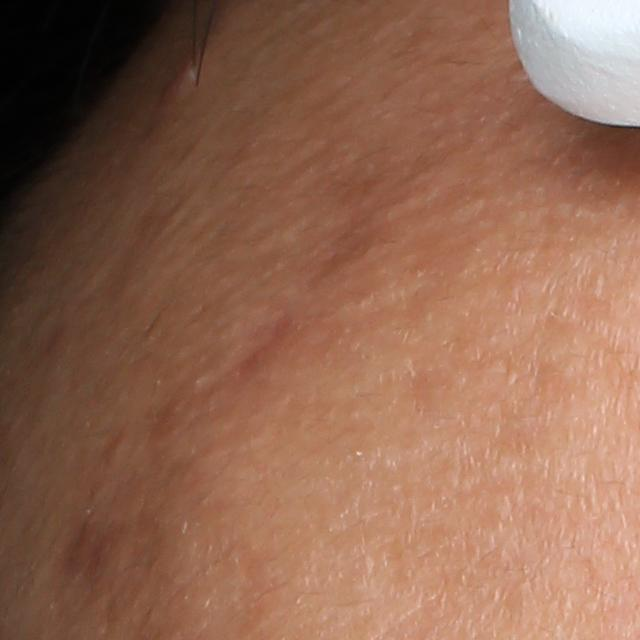atrophic_scar: (208, 310, 298, 394)
papule: (150, 41, 215, 105)
